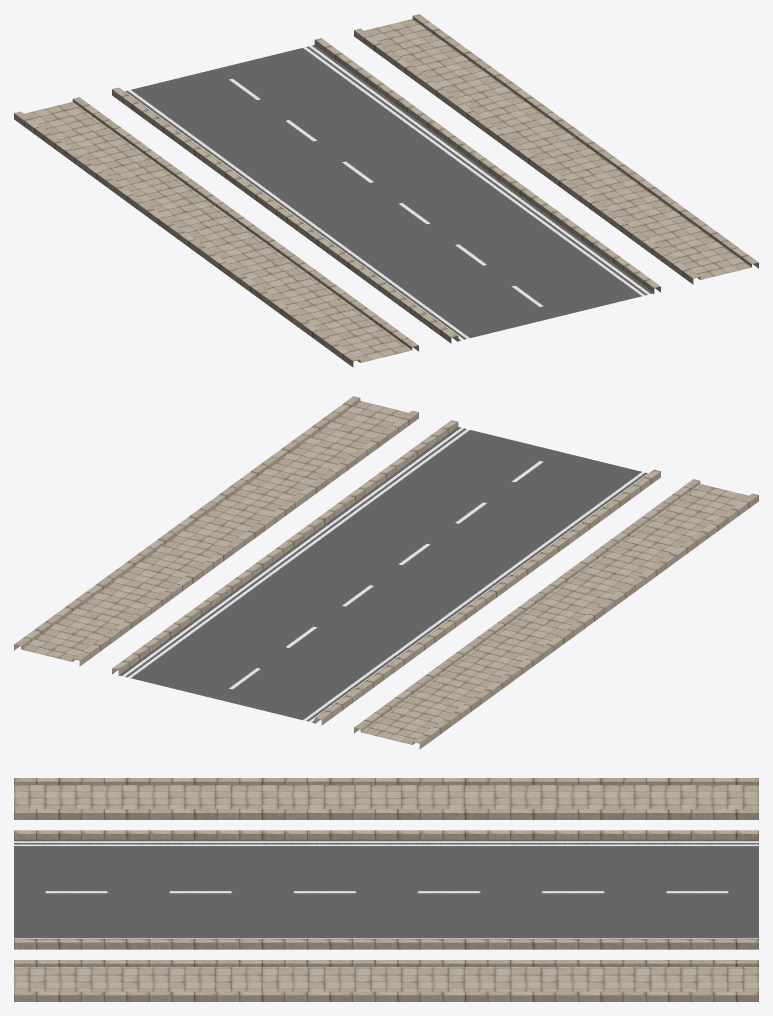
The model's file is Street1Lane30m.FBX.
The picture shows the model from 3 angles, top to bottom: view 1: azimuth 30°, elevation 25°; view 2: azimuth 150°, elevation 25°; view 3: azimuth 270°, elevation 25°; orthographic projection. The views are drawn at different scales.
Visible parts, largest first — view 1: Street1Lane30m; view 2: Street1Lane30m; view 3: Street1Lane30m.
Boxes of the visible parts, x1=… form: Street1Lane30m: x1=14, y1=14, x2=758, y2=367; Street1Lane30m: x1=14, y1=396, x2=758, y2=749; Street1Lane30m: x1=14, y1=778, x2=758, y2=1001.
Bounding box in the file's own units: 20.7 × 0.3 × 30.
2 materials, 2 textured.
